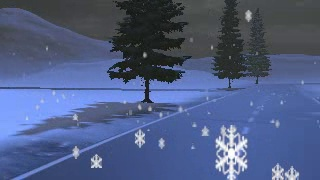Lane: (14, 82, 319, 179)
